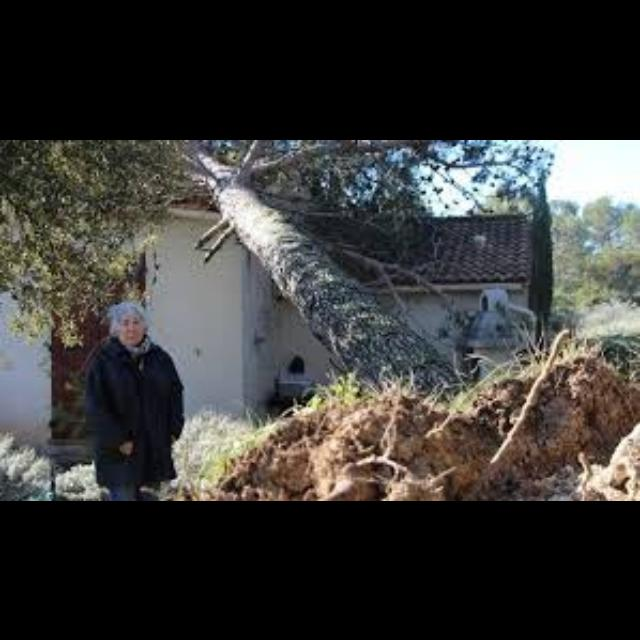Fallen Tree: (210, 170, 488, 500)
